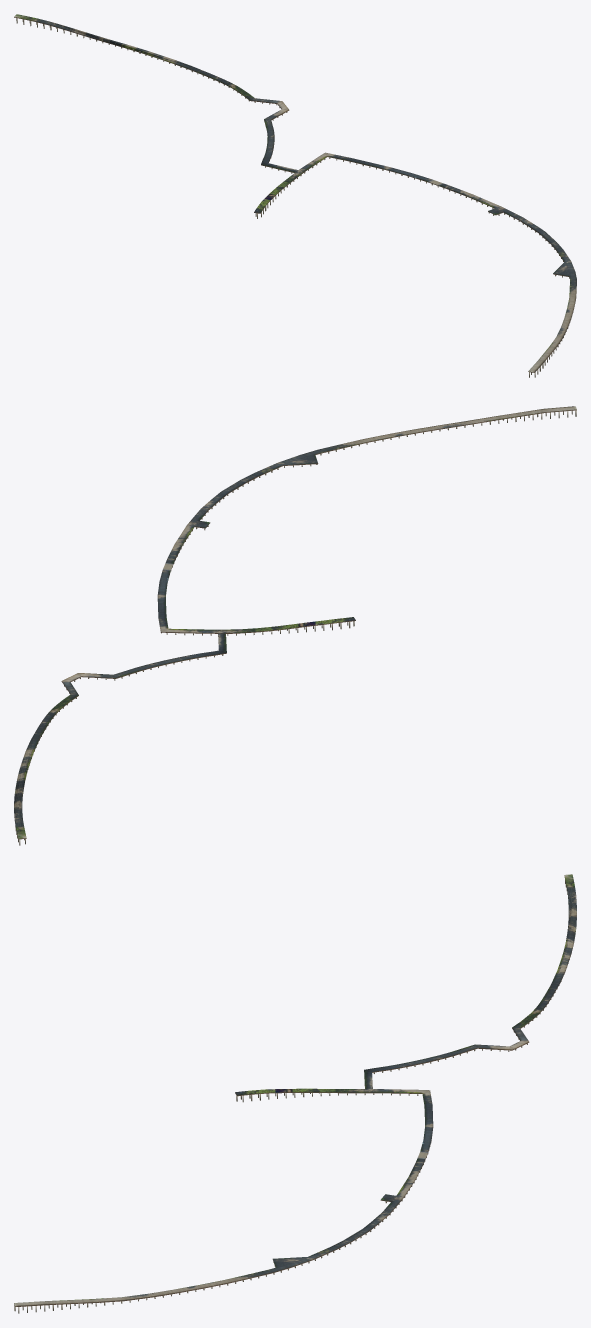
The picture shows the model from 3 angles, top to bottom: view 1: azimuth 30°, elevation 25°; view 2: azimuth 150°, elevation 25°; view 3: azimuth 330°, elevation 25°; orthographic projection. The views are drawn at different scales.
Parts seen in each view (by area): view 1: OneMap deck surface, Boardwalk fascia, Boardwalk supports; view 2: OneMap deck surface, Boardwalk fascia, Boardwalk supports; view 3: OneMap deck surface, Boardwalk fascia, Boardwalk supports.
Part boxes in pixels (left/top/right/bottom): OneMap deck surface: left=14, top=14, right=576, bottom=372; Boardwalk fascia: left=14, top=17, right=576, bottom=372; Boardwalk supports: left=16, top=18, right=573, bottom=377; OneMap deck surface: left=14, top=406, right=576, bottom=838; Boardwalk fascia: left=14, top=409, right=576, bottom=839; Boardwalk supports: left=15, top=410, right=576, bottom=845; OneMap deck surface: left=14, top=874, right=576, bottom=1306; Boardwalk fascia: left=14, top=877, right=576, bottom=1306; Boardwalk supports: left=14, top=879, right=569, bottom=1313.
Bounding box in the file's own units: 81.07 × 2.46 × 344.
4 materials, 1 textured.
